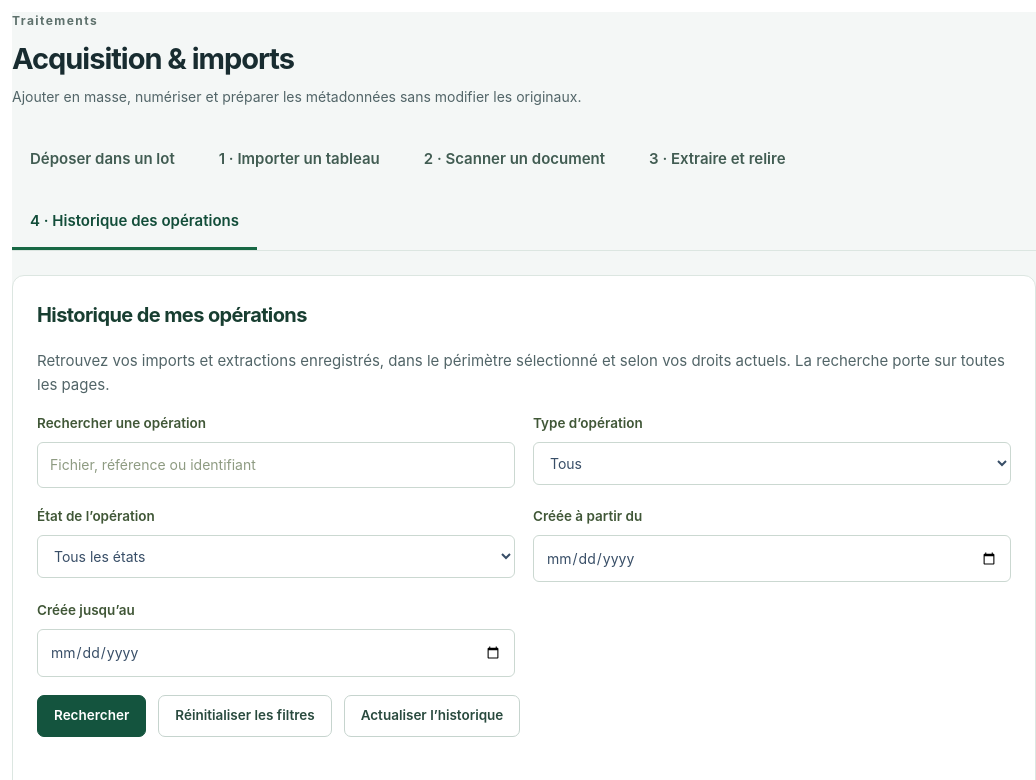
Test case: signale le résultat vide et bloque une période de dates inversée
Type "2026-10-23" into the date field labelled "Créée à partir du". click: (772, 559)
box: [533,535,1011,582]
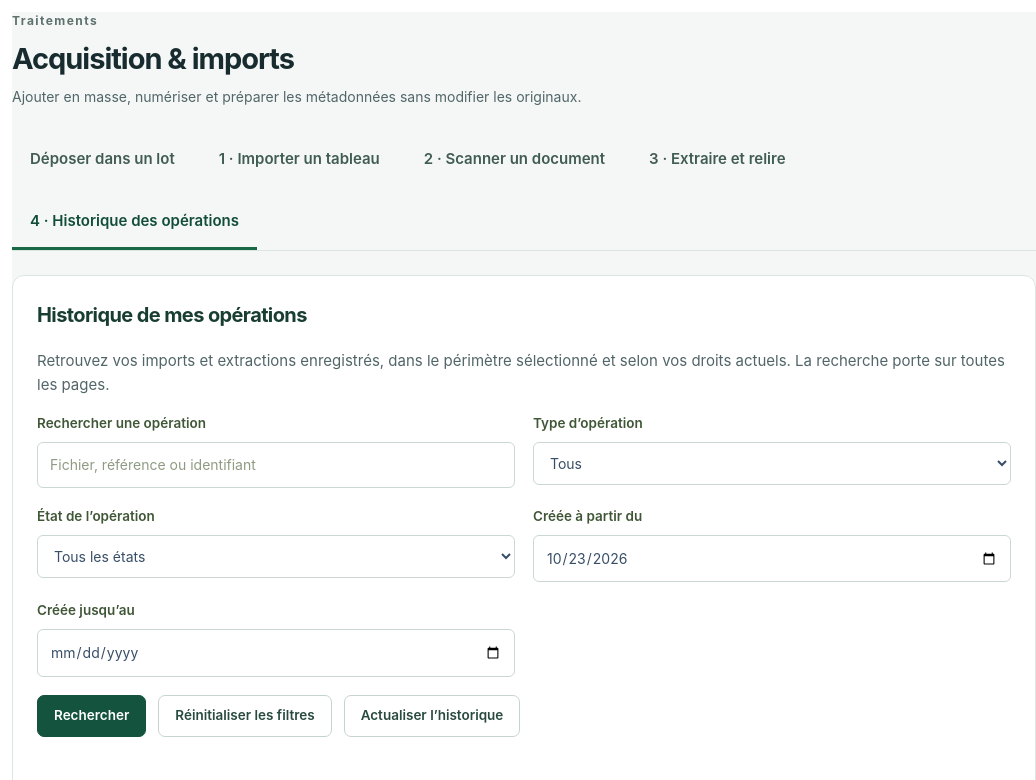
Type "2026-10-01" into the date field labelled "Créée jusqu’au". click: (276, 653)
box: [37,629,515,677]
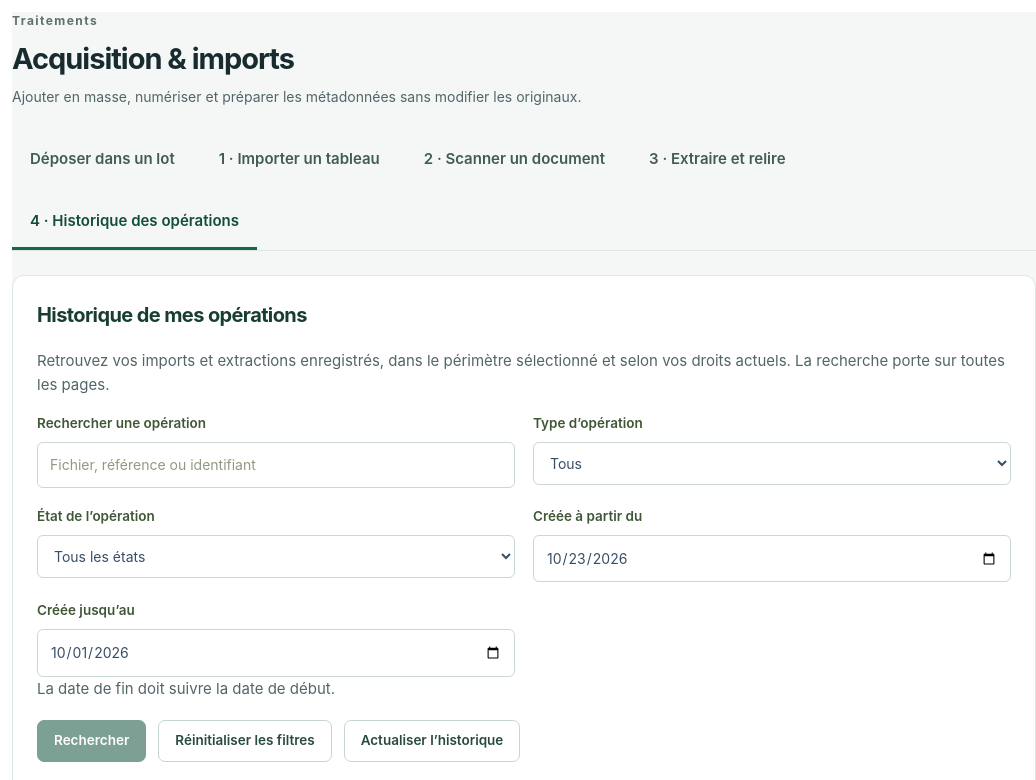
Expected: the button "Rechercher" is disabled, [37,720,146,762]
